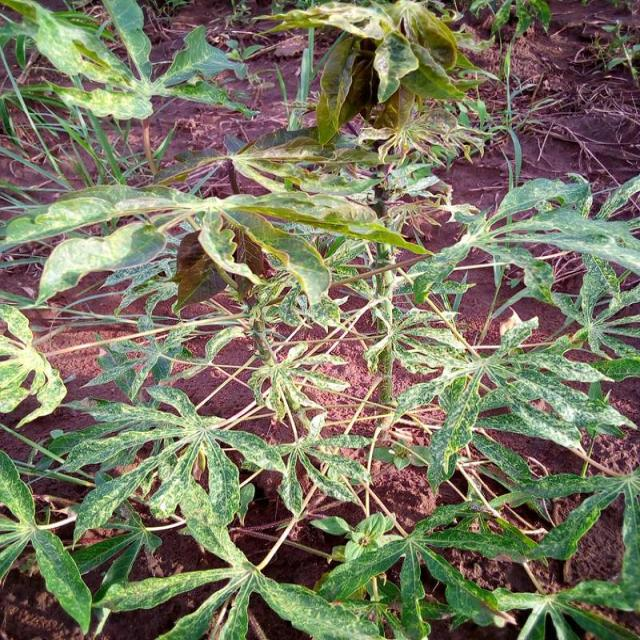cassava leaf: (0, 1, 638, 638), (36, 219, 166, 305)
